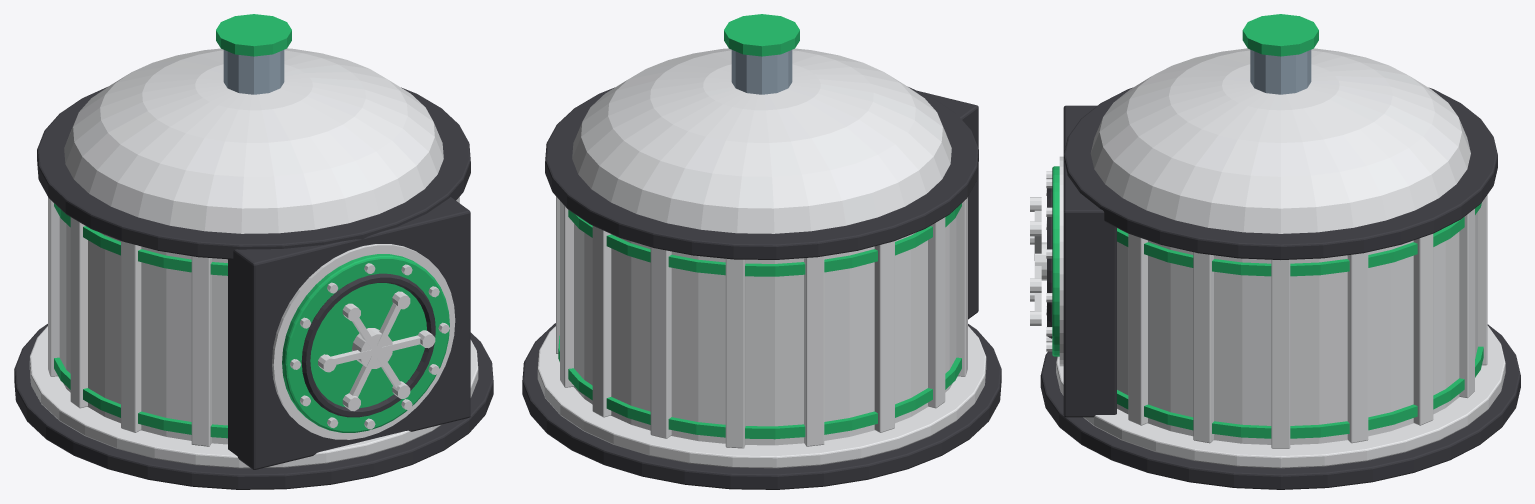
Rendered from slp-vault.glb.
3 renders of one model, left to right at view 1: azimuth 30°, elevation 25°; view 2: azimuth 150°, elevation 25°; view 3: azimuth 270°, elevation 25°, orthographic.
Parts seen in each view (by area): view 1: vault_body, turn_door; view 2: vault_body; view 3: vault_body, turn_door.
Boxes of the visible parts, box(x1,y1,x2,y2) form: vault_body: box(14, 14, 493, 489); turn_door: box(282, 254, 449, 432); vault_body: box(522, 14, 1001, 489); vault_body: box(1040, 14, 1520, 489); turn_door: box(1030, 166, 1059, 356).
Size of the model in its own units: 12.6 by 10.4 by 12.88.
